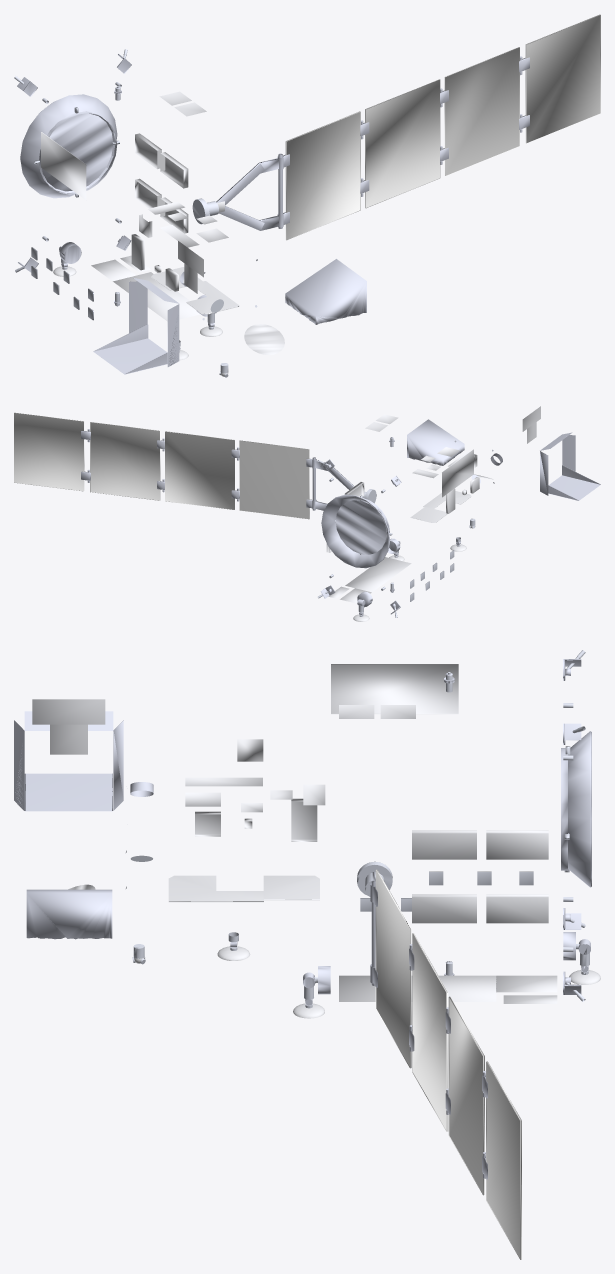
The model's file is landsat_white.obj.
The picture shows the model from 3 angles, top to bottom: view 1: azimuth 30°, elevation 25°; view 2: azimuth 150°, elevation 25°; view 3: azimuth 270°, elevation 25°; orthographic projection. The views are drawn at different scales.
Visible parts, largest first — view 1: body2; view 2: body2; view 3: body2.
Boxes of the visible parts, box(x1,y1,x2,y2) form: body2: box(14, 14, 600, 377); body2: box(14, 406, 600, 621); body2: box(14, 650, 600, 1259).
Bounding box in the file's own units: 7.91 × 2.59 × 4.38.
